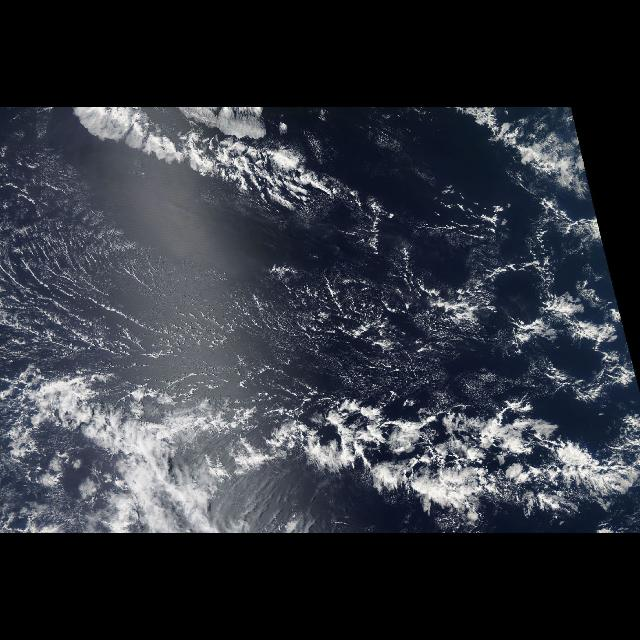Fish: (8, 354, 640, 534)
Gravel: (324, 208, 606, 348)
Sugar: (2, 152, 360, 402)
